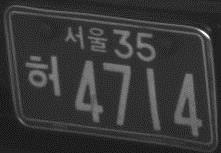1: (142, 67, 163, 131)
3: (110, 28, 134, 60)
4: (172, 72, 204, 137), (72, 59, 104, 122)
5: (135, 31, 157, 63)
7: (101, 61, 134, 128)
서울_O: (63, 25, 109, 53)
허: (23, 53, 62, 96)
